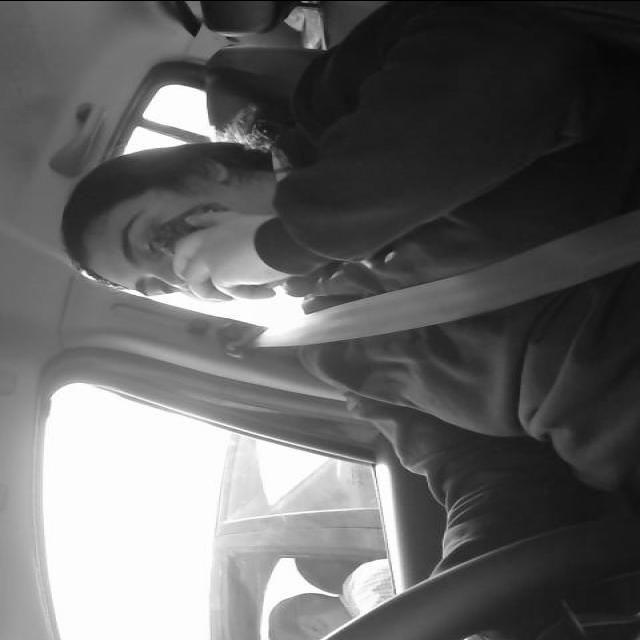mobile use: (145, 193, 271, 307)
